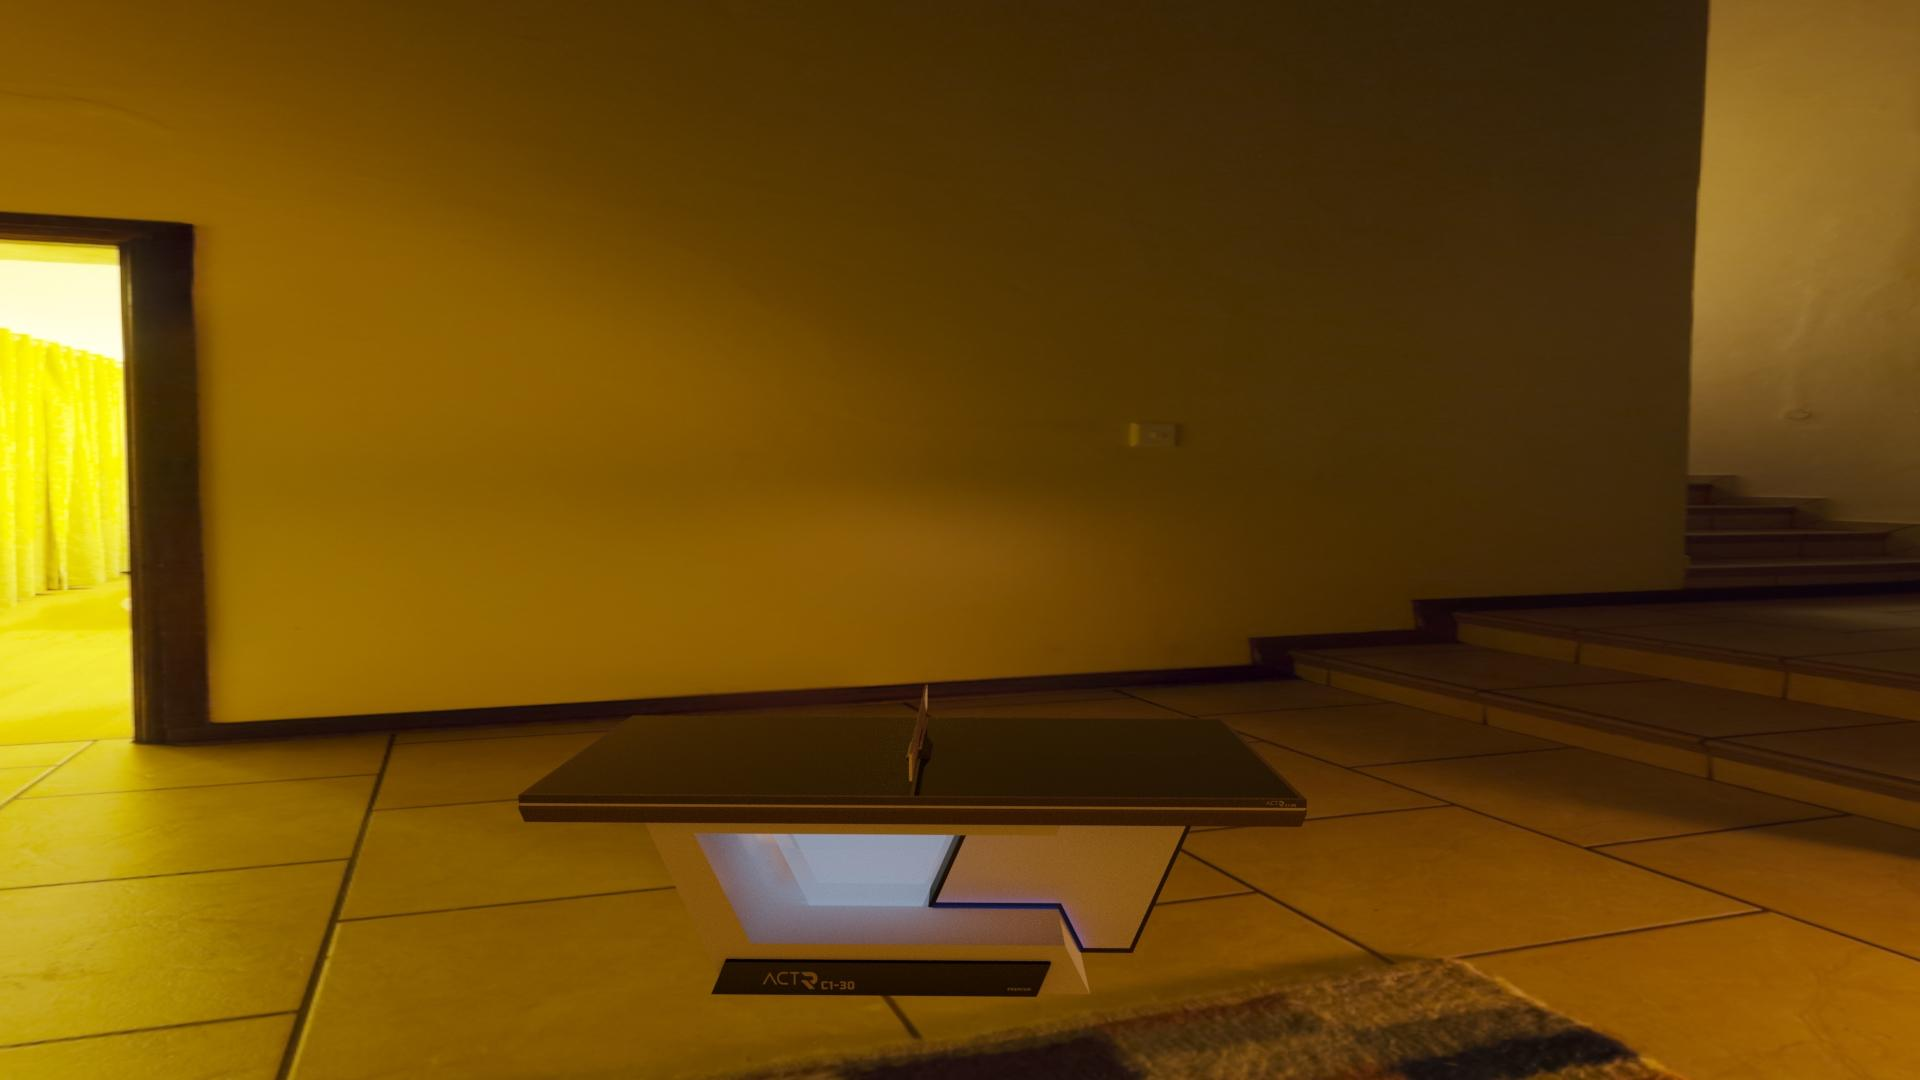table: (526, 716, 1300, 798)
